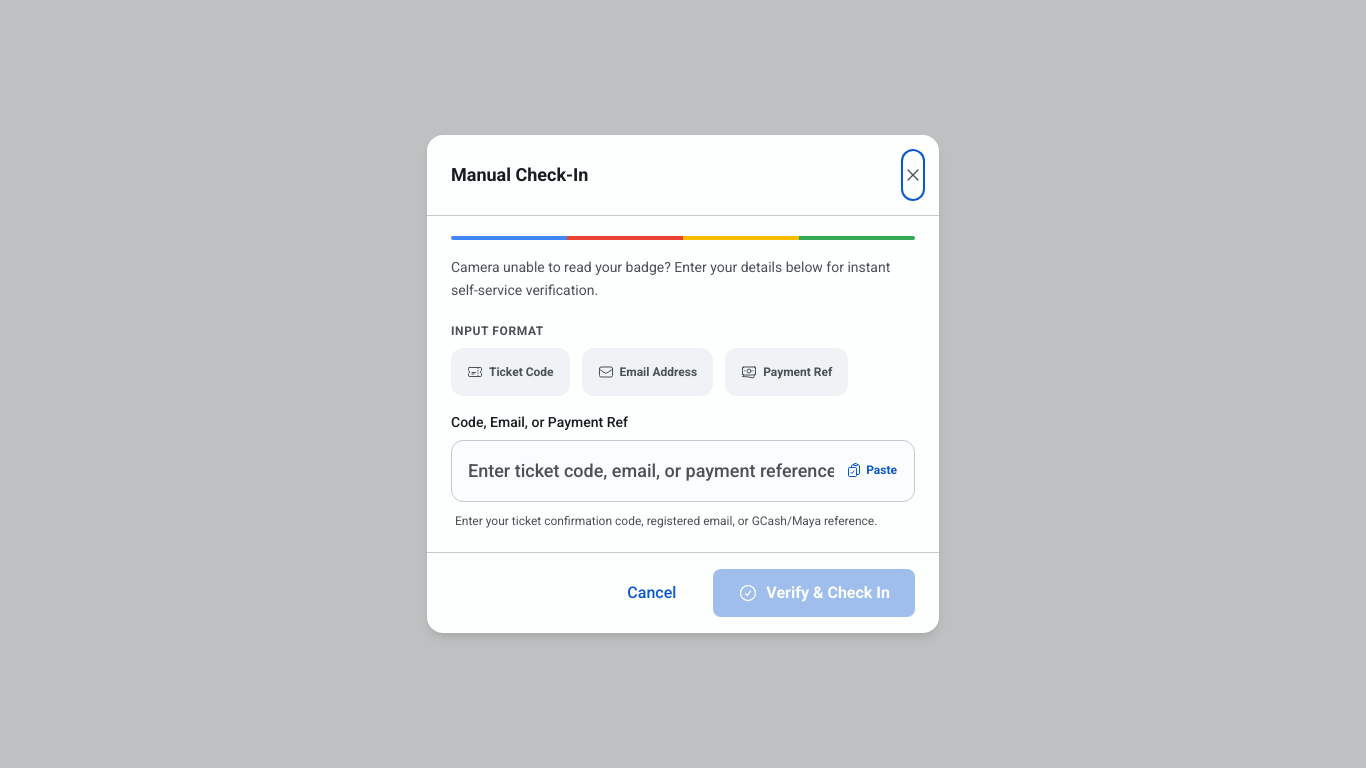
it: KioskManualCodeModal Component (DOM) › updates placeholder and effective mode when clicking format selector chips
Click the button "Email Address": (647,372) [582,348,713,396]
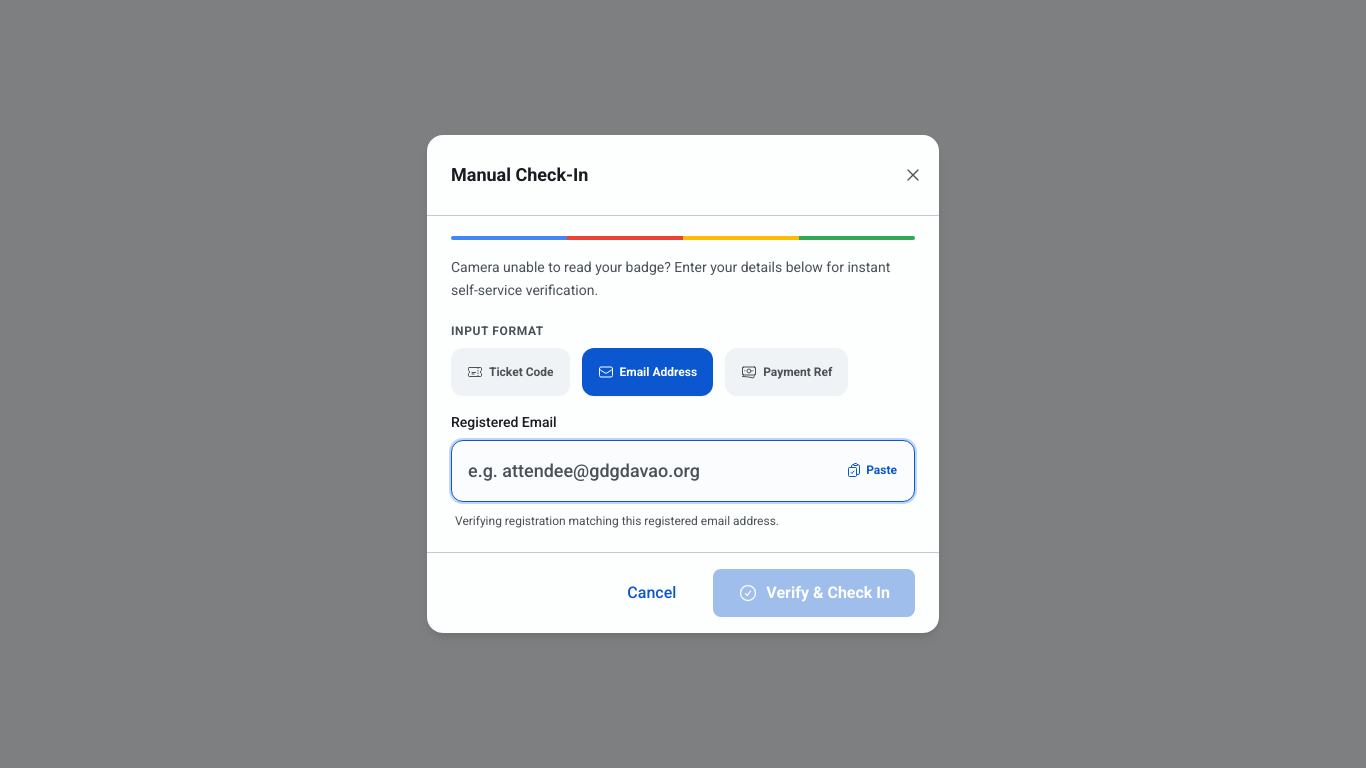
Check: the field with placeholder "e.g. attendee@gdgdavao.org" is shown, box [451,440,915,502]
Check: the text "Verifying registration matching this registered email address." is shown, box [455,513,779,529]
Click the button "Payment Ref": (787,372) [725,348,848,396]
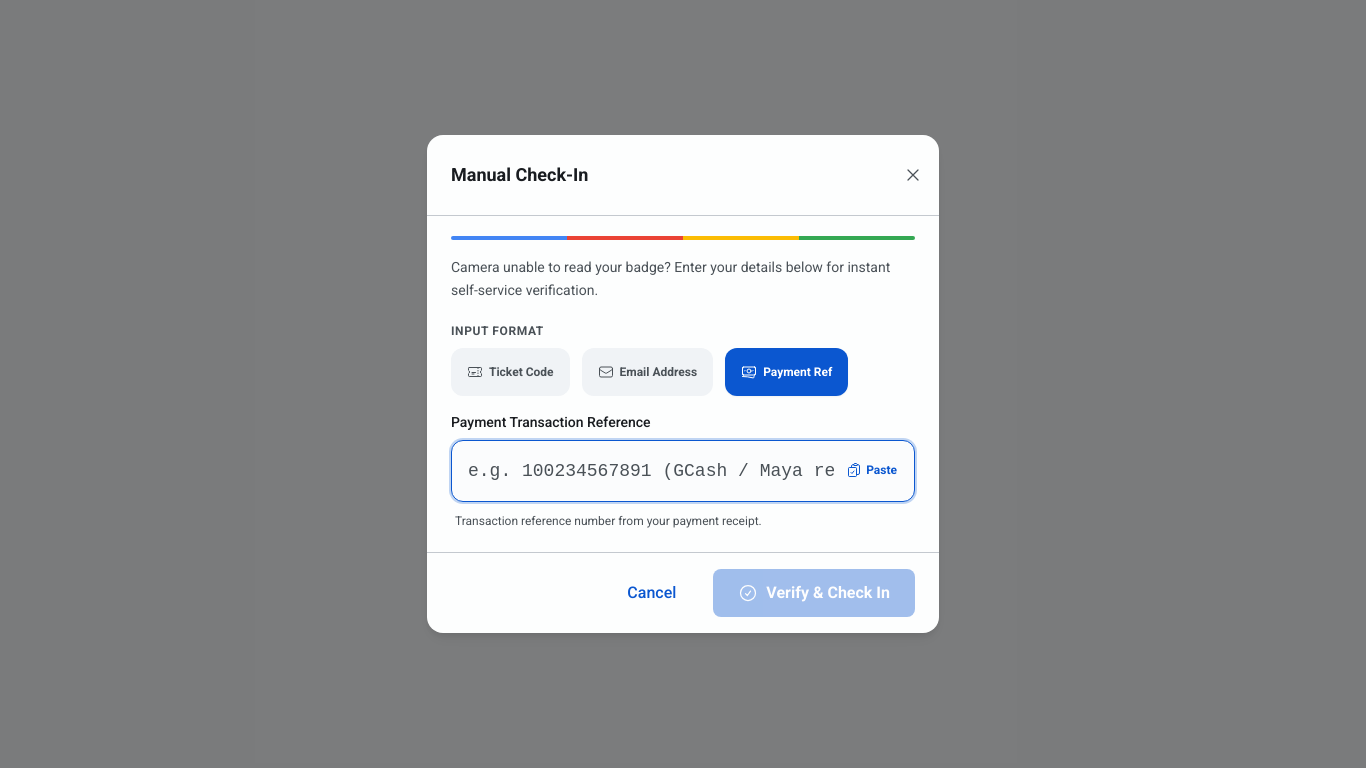
Check: the field with placeholder "e.g. 100234567891 (GCash / Maya reference)" is shown, box [451,440,915,502]
